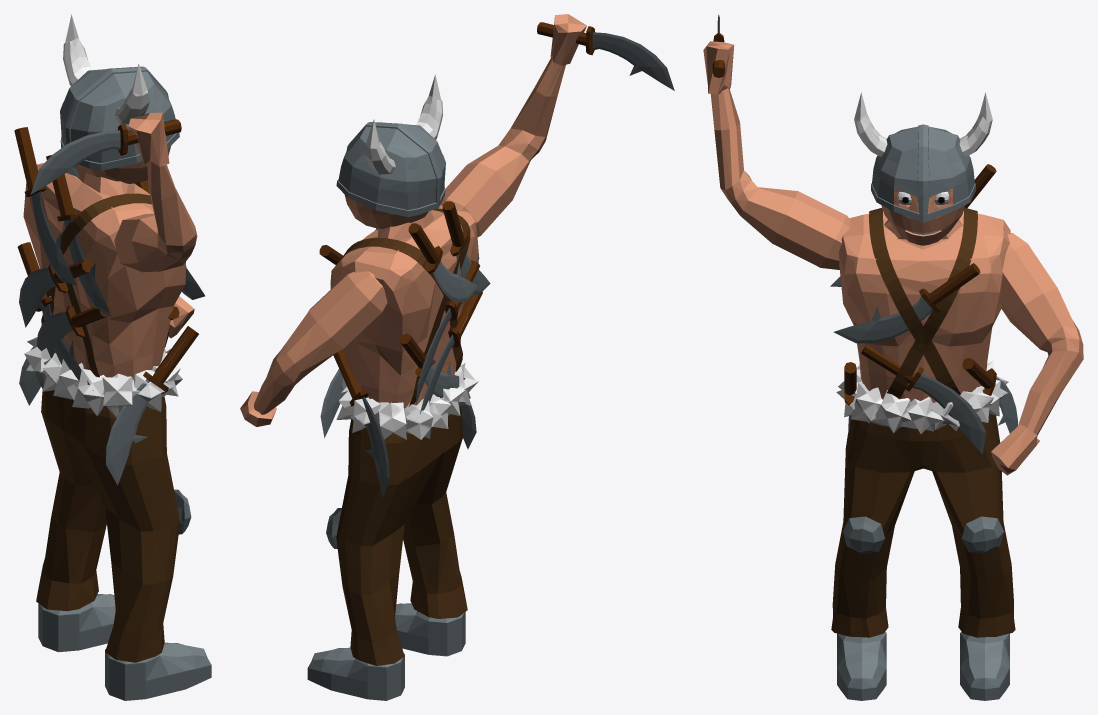
The model's file is HUNTER_BASE_proto.obj.
3 views of the same model, side by side, from view 1: azimuth 30°, elevation 25°; view 2: azimuth 150°, elevation 25°; view 3: azimuth 270°, elevation 25° (orthographic). The views are drawn at different scales.
Parts seen in each view (by area): view 1: Cube_Cube.016; view 2: Cube_Cube.016; view 3: Cube_Cube.016.
Boxes of the visible parts, left/top/right/bottom form: Cube_Cube.016: left=14, top=14, right=211, bottom=700; Cube_Cube.016: left=240, top=14, right=674, bottom=700; Cube_Cube.016: left=703, top=14, right=1083, bottom=700.
Bounding box in the file's own units: 3.84 × 7.4 × 4.27.
Materials: 1 (1 with a texture image).
